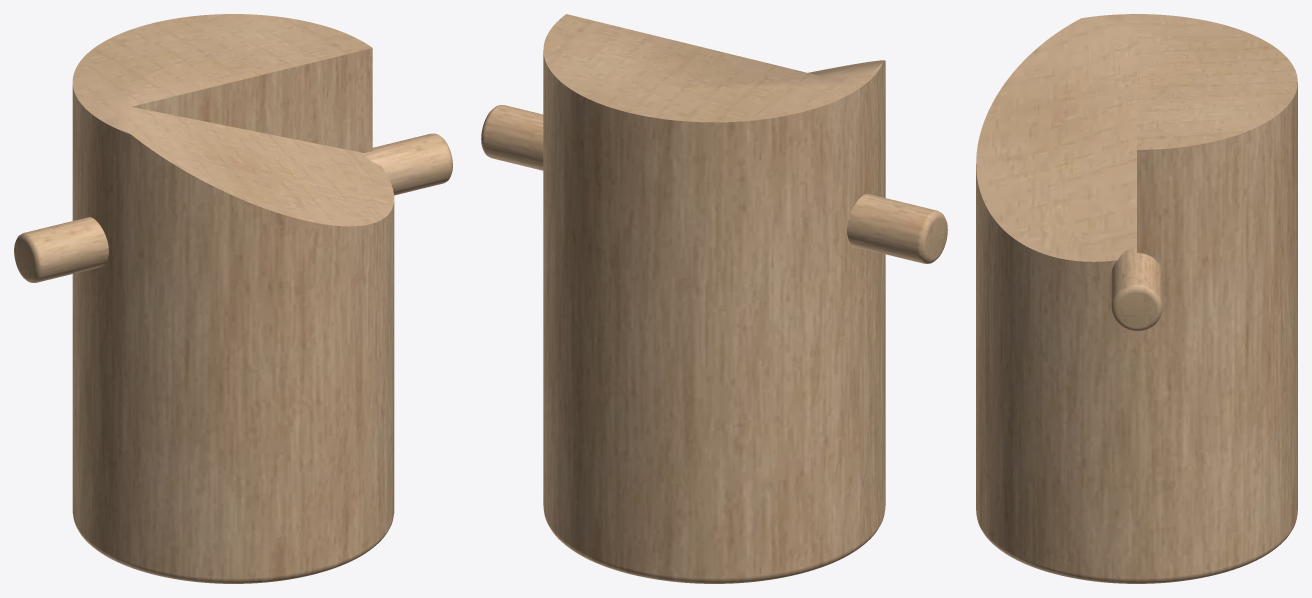
The model's file is cylindra_jezdec_bily.glb.
The picture shows the model from 3 angles, left to right: view 1: azimuth 30°, elevation 25°; view 2: azimuth 150°, elevation 25°; view 3: azimuth 270°, elevation 25°; orthographic projection. The views are drawn at different scales.
Parts seen in each view (by area): view 1: Cylindra_Jezdec_bílý; view 2: Cylindra_Jezdec_bílý; view 3: Cylindra_Jezdec_bílý.
Boxes of the visible parts, x1,y1,x2,y2 form: Cylindra_Jezdec_bílý: (14, 14, 452, 583); Cylindra_Jezdec_bílý: (481, 14, 947, 583); Cylindra_Jezdec_bílý: (976, 14, 1297, 583).
Size of the model in its own units: 0.045 by 0.045 by 0.03.
2 materials, 2 textured.
